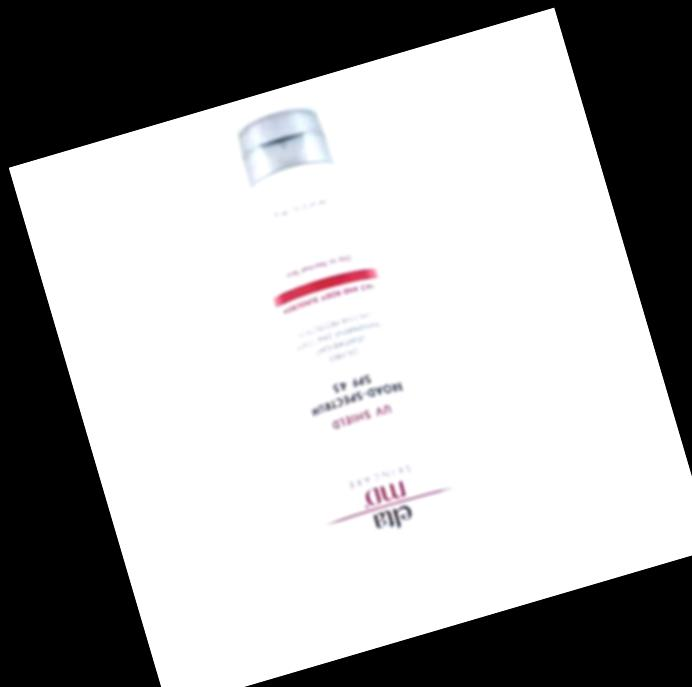cosmetic: (193, 89, 495, 625)
